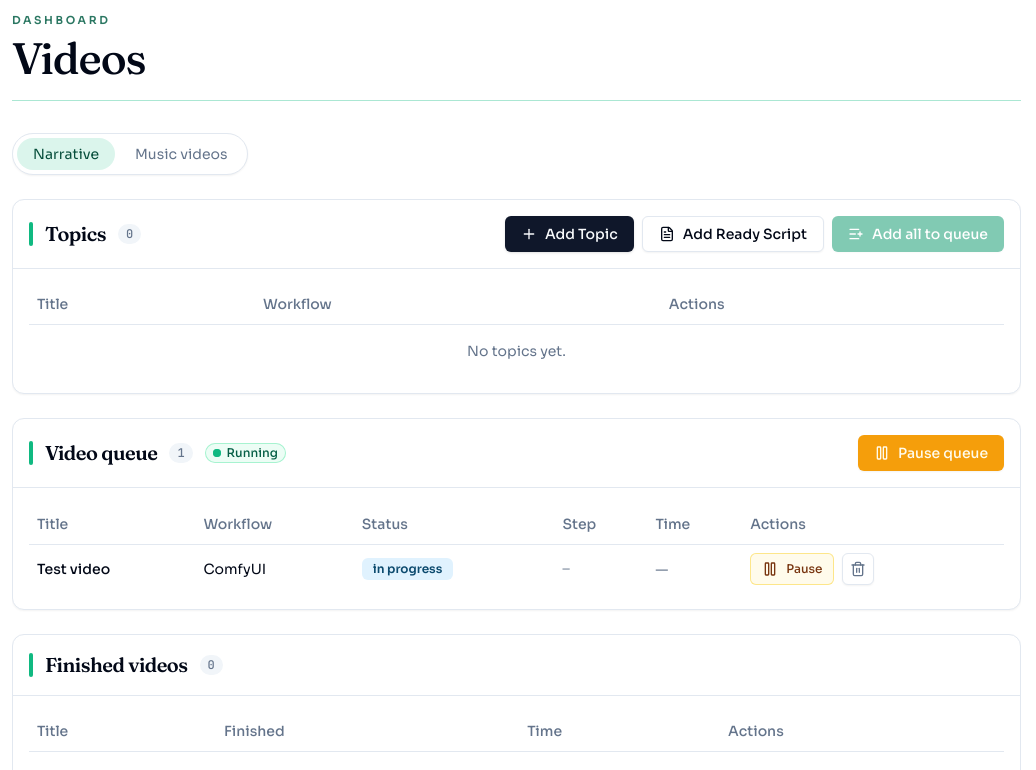
Scenario: VideosClient action spinner sync › Pause row: spinner persists past POST and clears once paused becomes 1
The width and height of the screenshot is (1036, 770).
Click the button "Pause" at (792, 569), box [750, 553, 834, 585]
Wait 300 ms
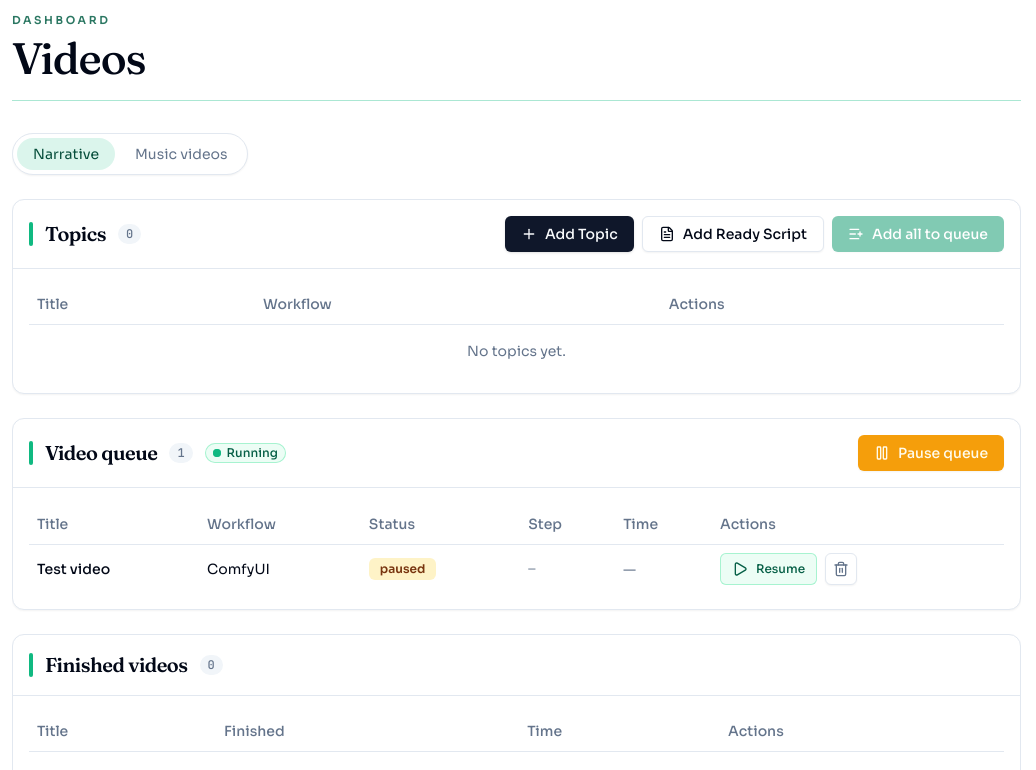
expect the text "paused" is shown: met, box [369, 558, 436, 580]
